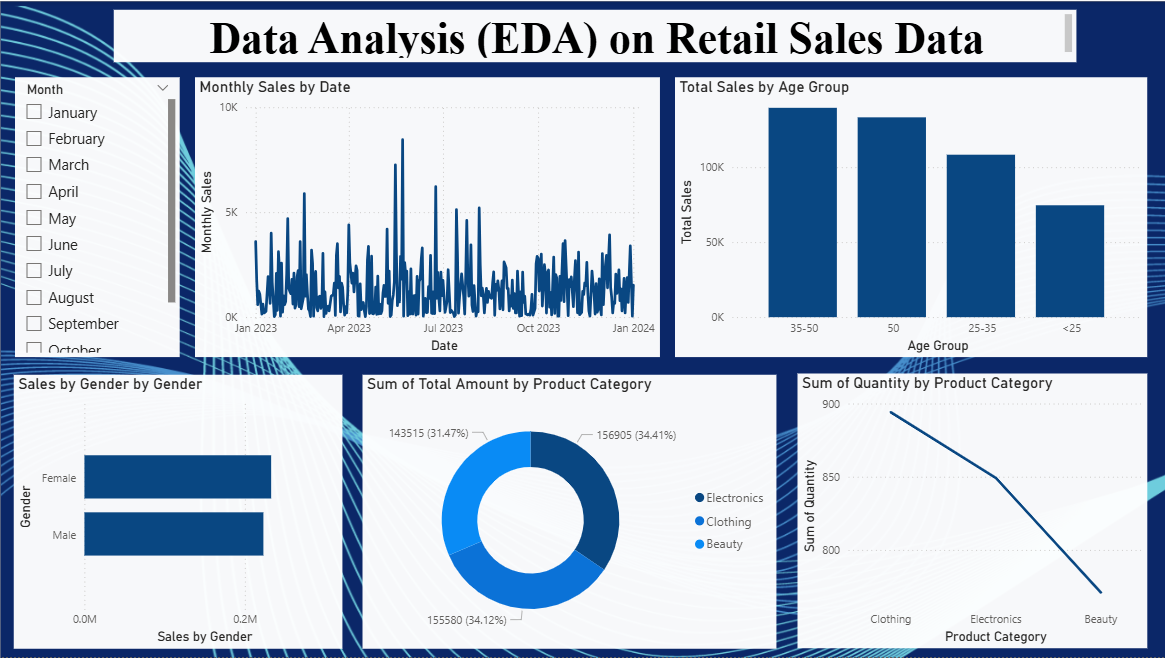

What the dashboard file says about the page in this screenshot:
{"tool":"powerbi","page":{"name":"Dashboard 1","canvas":[1280,720],"ordinal":0},"visuals":[{"type":"lineChart","fields":{"Y":["Dax.Monthly Sales"],"Category":["retail_sales_dataset.Date"]},"box":[214.1,83.7,510.5,307.4],"z":0},{"type":"barChart","fields":{"Y":["Dax.Sales by Gender"],"Category":["retail_sales_dataset.Gender"]},"box":[15.1,410.3,360.9,300.5],"z":1000},{"type":"clusteredColumnChart","fields":{"Category":["retail_sales_dataset.Age Group"],"Y":["Dax.Total Sales"]},"box":[741,83.7,518.7,307.4],"z":2000},{"type":"donutChart","fields":{"Category":["retail_sales_dataset.Product Category"],"Y":["Sum(retail_sales_dataset.Total Amount)"]},"box":[397.9,410.3,454.2,300.5],"z":3000},{"type":"lineChart","fields":{"Y":["Sum(retail_sales_dataset.Quantity)"],"Category":["retail_sales_dataset.Product Category"]},"box":[875.5,408.9,384.2,301.9],"z":4000},{"type":"slicer","fields":{"Values":["Calender.Date.Variation.Date Hierarchy.Month"]},"box":[16.5,83.7,181.1,307.4],"z":5000},{"type":"textbox","box":[124.9,9.6,1056.6,57.6],"z":6000}]}

Visuals, with their boxes in screenshot pixels (x1, y1, x2, y2), scaled from the page's 1280x720 canvas onto the 1165x658 screenshot:
lineChart - Dax.Monthly Sales x retail_sales_dataset.Date: 195,76,659,357
barChart - Dax.Sales by Gender x retail_sales_dataset.Gender: 14,375,342,650
clusteredColumnChart - retail_sales_dataset.Age Group x Dax.Total Sales: 674,76,1147,357
donutChart - retail_sales_dataset.Product Category x Sum(retail_sales_dataset.Total Amount): 362,375,776,650
lineChart - Sum(retail_sales_dataset.Quantity) x retail_sales_dataset.Product Category: 797,374,1147,650
slicer - Calender.Date.Variation.Date Hierarchy.Month: 15,76,180,357
textbox: 114,9,1075,61
